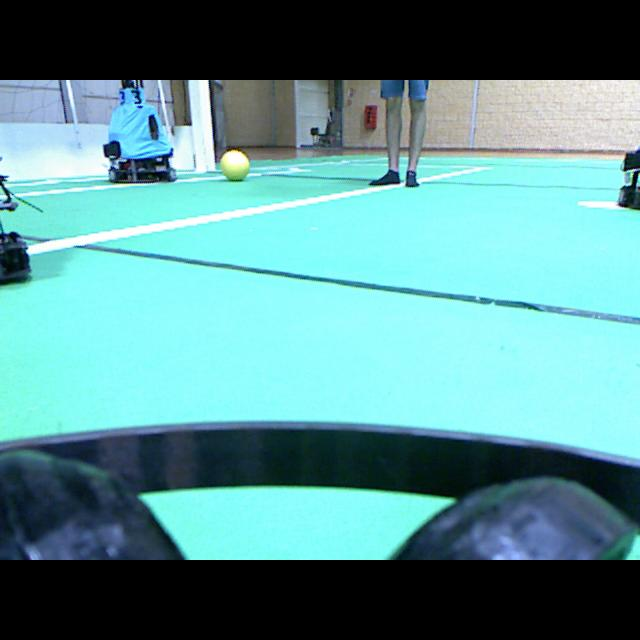ball: (220, 150, 249, 180)
goal: (188, 80, 214, 171)
